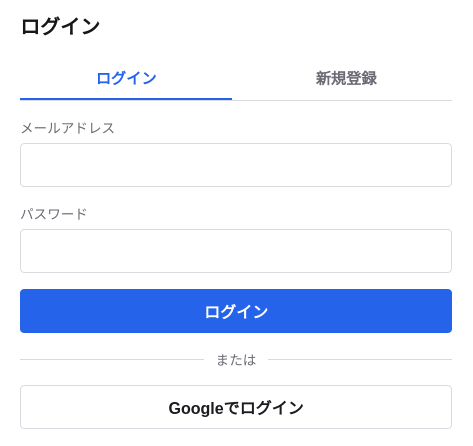
Scenario: LoginForm › 送信中の二重送信防止 › 送信中はログイン/登録ボタンとGoogleボタンがdisabledになる
Type "taro@example.com" into the field labelled "メールアドレス" at {"x": 236, "y": 165}, box [20,143,452,187]
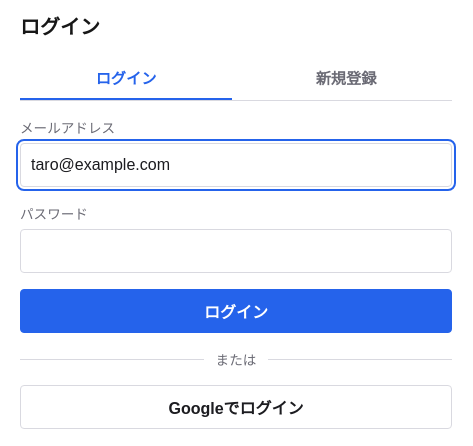
Type "password123" into the password field labelled "パスワード" at {"x": 236, "y": 251}, box [20,229,452,273]
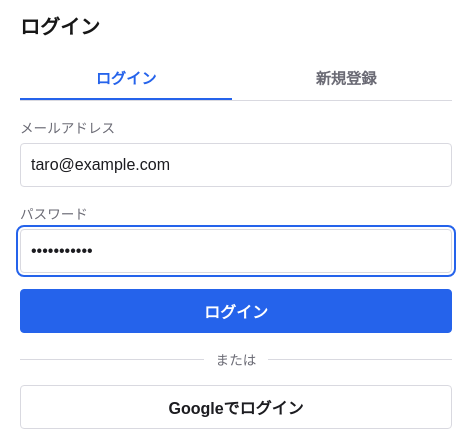
Click the button "ログイン" at {"x": 236, "y": 311}, box [20,289,452,333]
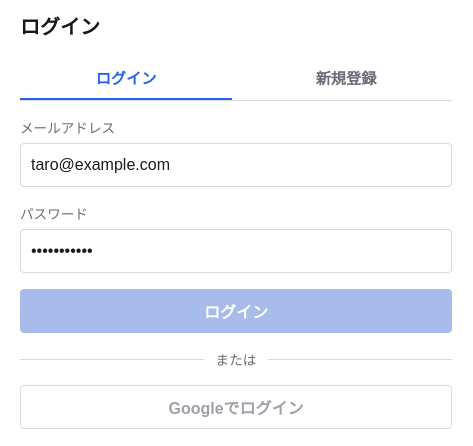
Expected: the button "ログイン" is disabled, [20,289,452,333]
Expected: the button "Googleでログイン" is disabled, [20,385,452,429]
